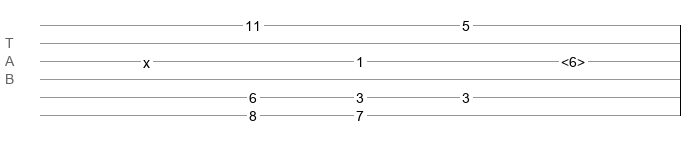1: (356, 54, 364, 64)
11: (245, 18, 261, 28)
3: (356, 90, 364, 100), (462, 90, 470, 100)
5: (462, 18, 470, 28)
6: (249, 90, 257, 100)
7: (356, 108, 364, 118)
8: (249, 108, 257, 118)
harmonic: (561, 54, 585, 64)
x: (143, 55, 150, 63)
